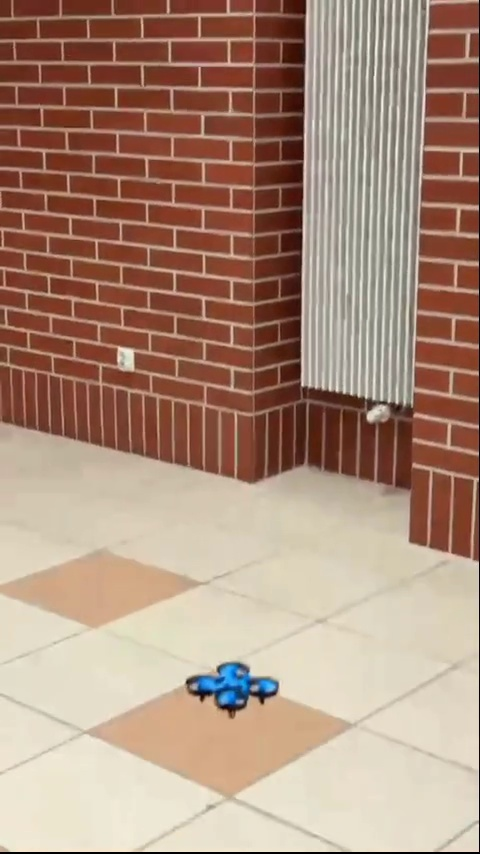drone: (188, 661, 287, 718)
